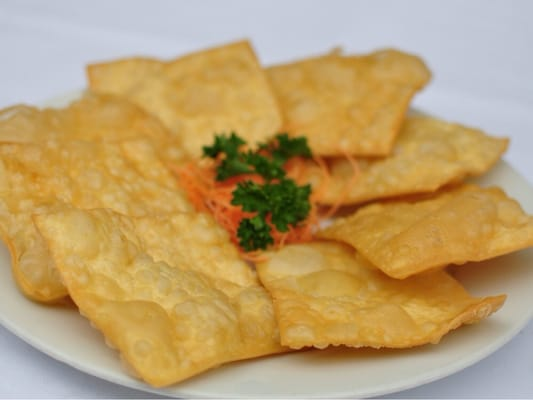curry: (230, 177, 312, 252)
